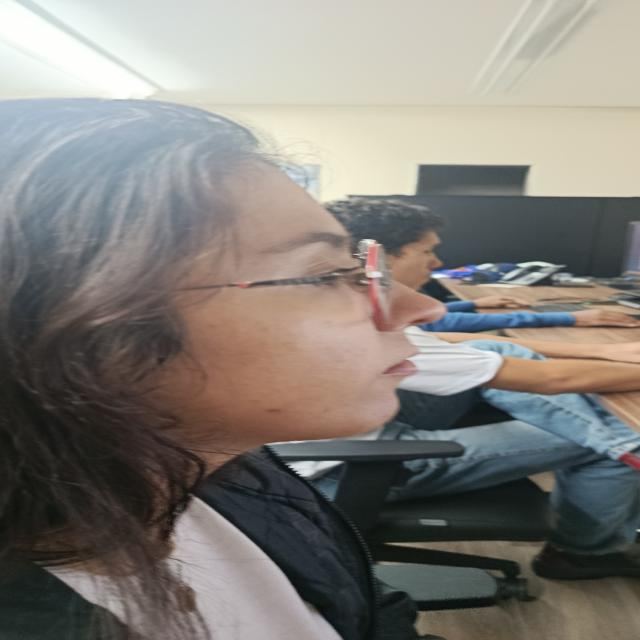sem_oculos: (181, 240, 392, 323)
